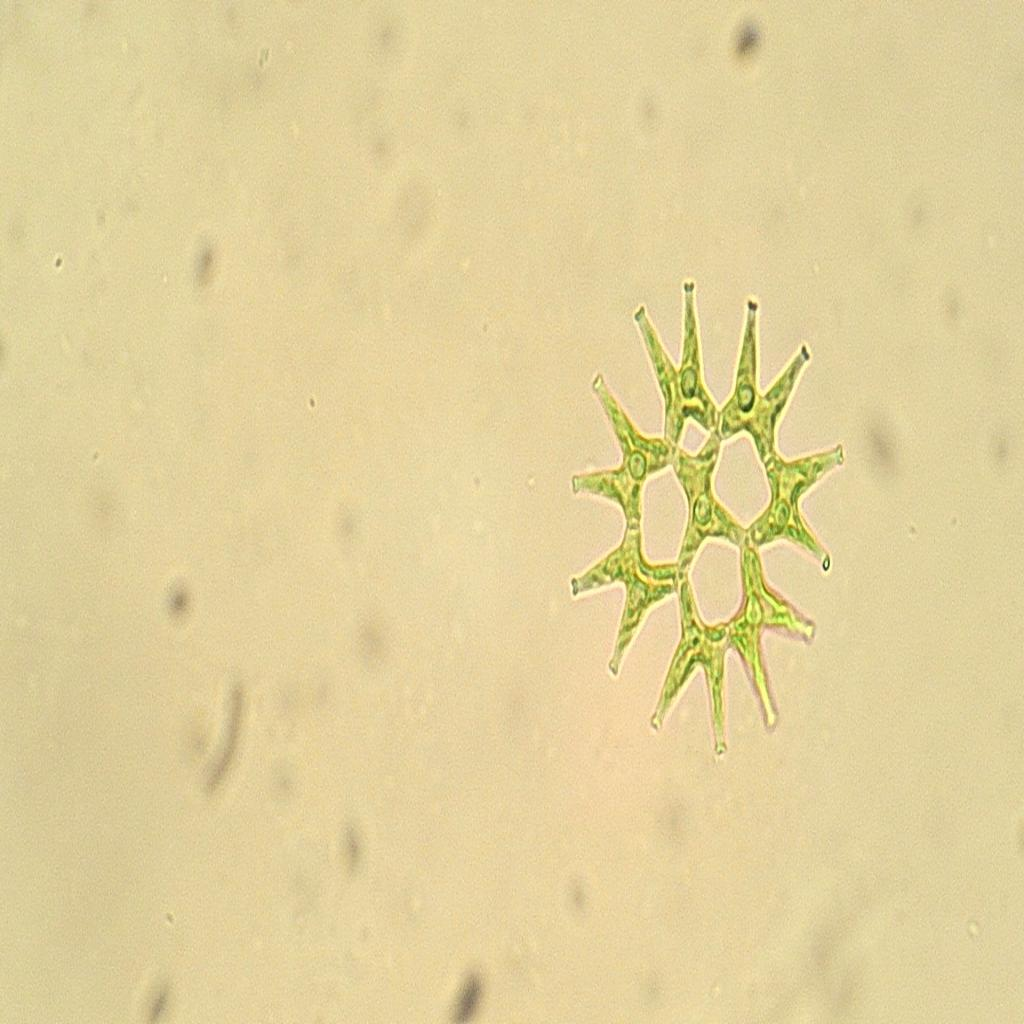Pediastrum_CTH: (556, 266, 858, 788)
